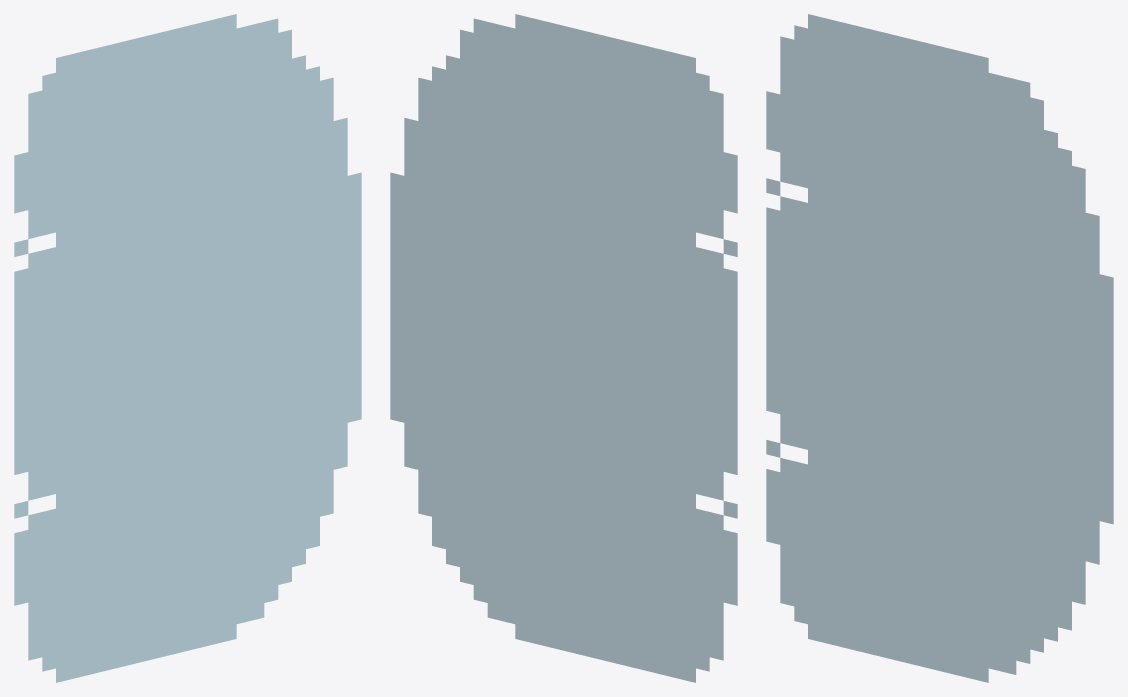
Rendered from wp_water_171.obj.
3 renders of one model, left to right at view 1: azimuth 30°, elevation 25°; view 2: azimuth 150°, elevation 25°; view 3: azimuth 330°, elevation 25°, orthographic.
Bounding box in the file's own units: 0.366 × 0.6296 × 0.
Materials: 1 (1 with a texture image).
